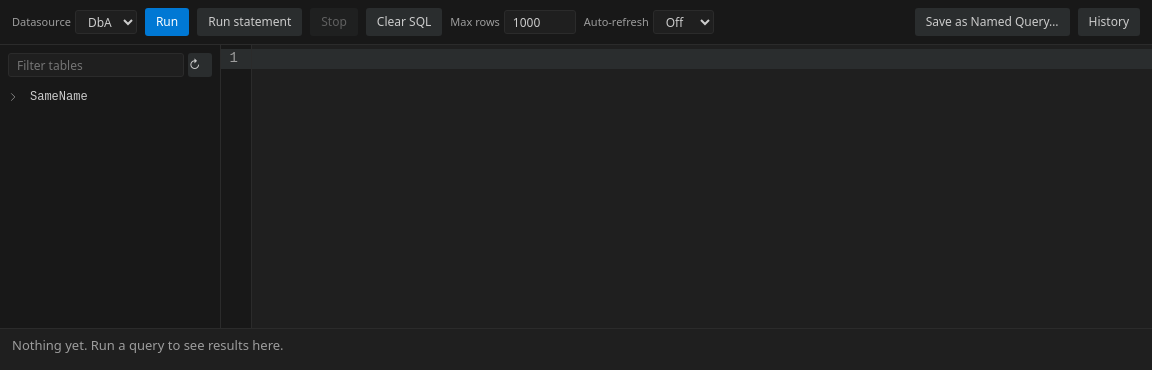
Test case: QueryBrowser › a columns fetch in flight when the datasource changes does not land in the new datasource cache
This screenshot has width=1152, height=370.
Check: the button "SameName" is shown, box [22,85,216,109]
Click the button named "Expand SameName": click(13, 97) [4,88,22,106]
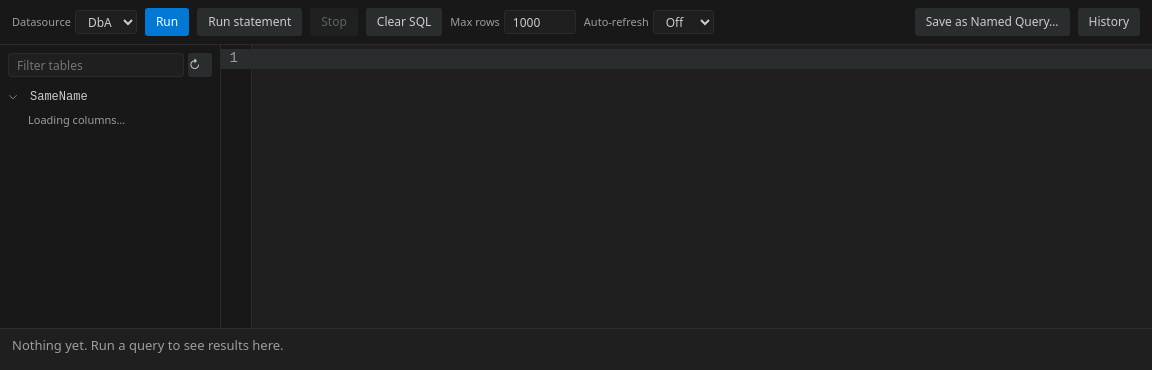
Select "DbB" in the dropdown labelled "Datasource": (106, 22) [75,10,137,34]
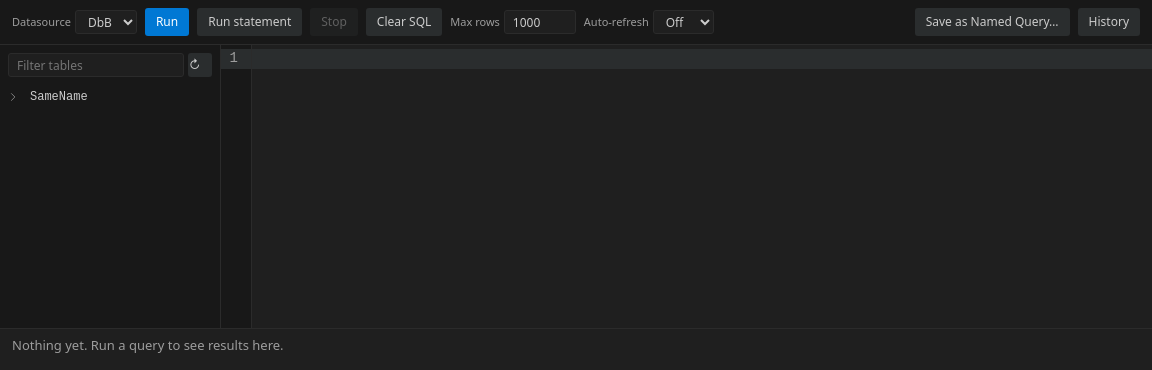
Check: the button "SameName" is shown, box [22,85,216,109]
Click the button named "Expand SameName": click(13, 97) [4,88,22,106]
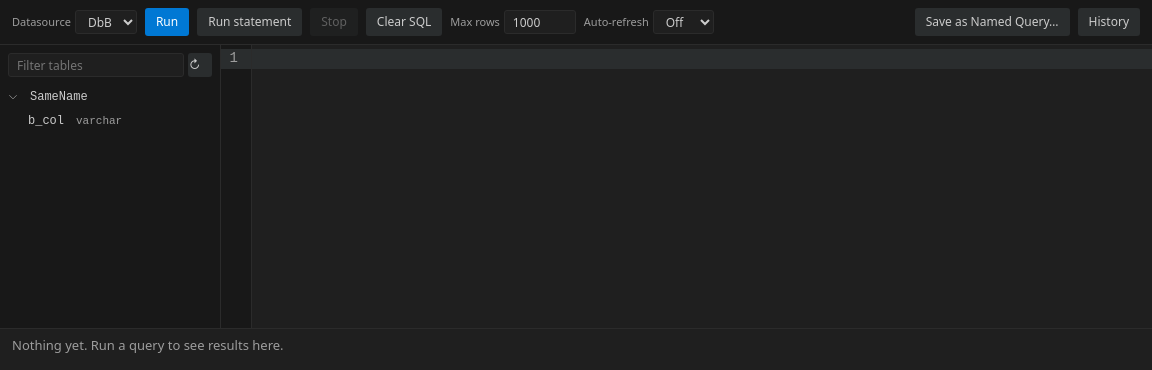
Check: the button "b_col varchar" is shown, box [20,109,130,133]
